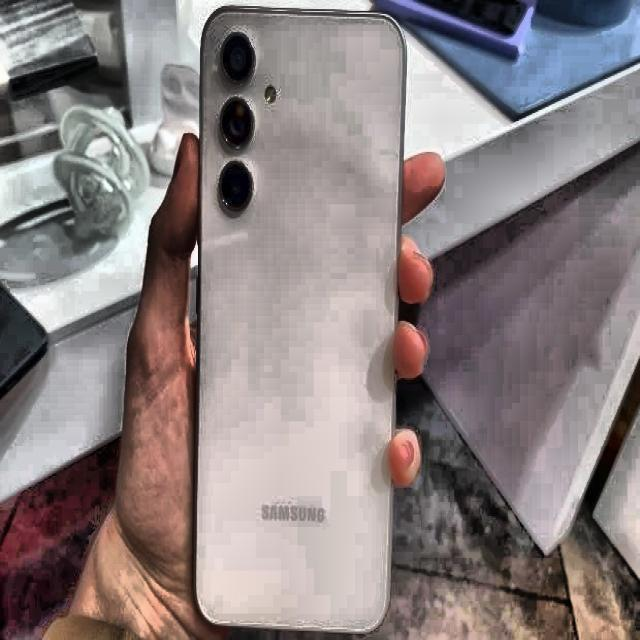Phone: (193, 4, 406, 638)
